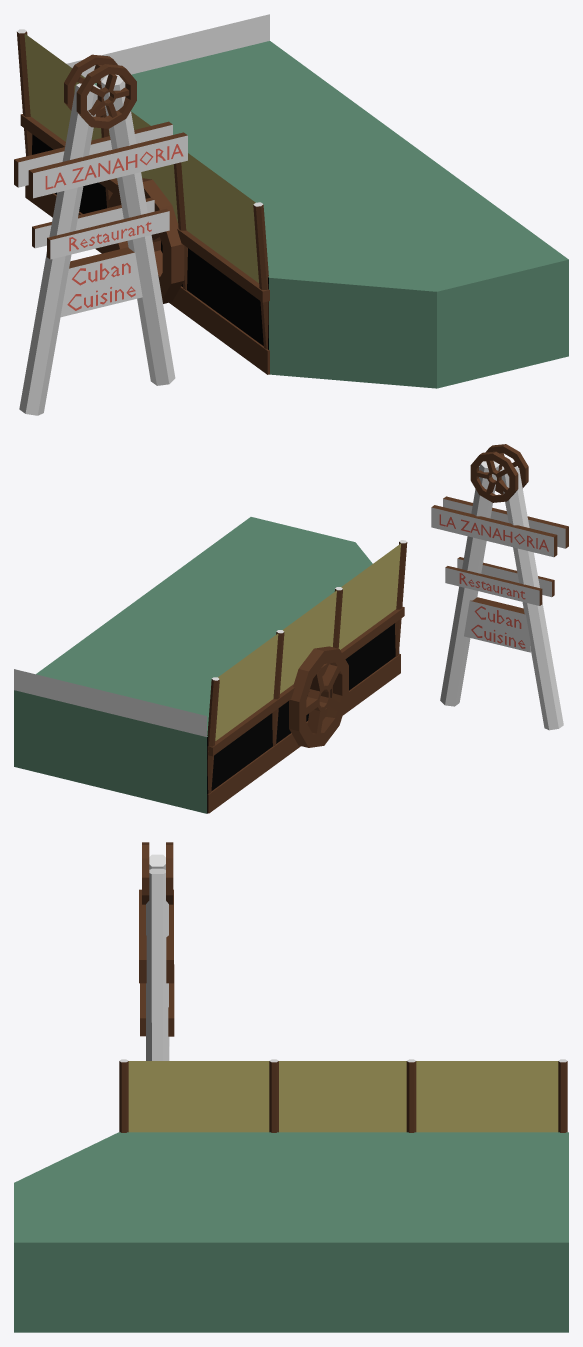
File: La carreta.fbx
3 views of the same model, one above another, from view 1: azimuth 30°, elevation 25°; view 2: azimuth 150°, elevation 25°; view 3: azimuth 270°, elevation 25° (orthographic). The views are drawn at different scales.
Parts seen in each view (by area): view 1: Cube, The Sign, The Sign.001; view 2: Cube, The Sign, The Sign.001; view 3: Cube, The Sign.
Part boxes in pixels (bbox=[...]): Cube: bbox=[17, 14, 568, 388]; The Sign: bbox=[14, 54, 187, 415]; The Sign.001: bbox=[108, 178, 184, 303]; Cube: bbox=[14, 517, 407, 813]; The Sign: bbox=[431, 444, 568, 730]; The Sign.001: bbox=[289, 646, 348, 747]; Cube: bbox=[14, 1059, 568, 1332]; The Sign: bbox=[139, 842, 174, 1060].
Size of the model in its own units: 5679 by 3931 by 6267.
